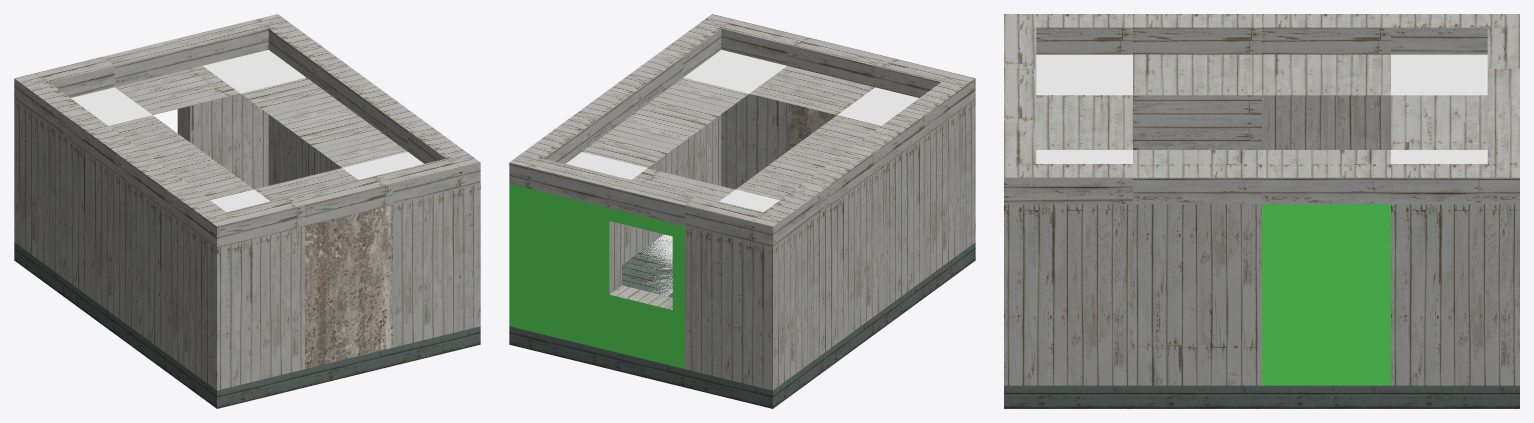
The model's file is building.dae.
3 views of the same model, side by side, from view 1: azimuth 30°, elevation 25°; view 2: azimuth 150°, elevation 25°; view 3: azimuth 270°, elevation 25° (orthographic). The views are drawn at different scales.
Parts seen in each view (by area): view 1: wall23 (×9), wall4 (×14), door24, floor3 (×6); view 2: wall23 (×10), wall4 (×14), floor3 (×8), door24; view 3: wall23 (×6), wall4 (×14), floor3 (×4).
Boxes of the visible parts, x1,y1,x2,y2 form: wall23 (×9): (14, 94, 480, 390); wall4 (×14): (14, 14, 480, 247); door24: (305, 205, 392, 368); floor3 (×6): (14, 242, 480, 408); wall23 (×10): (509, 94, 975, 390); wall4 (×14): (509, 14, 975, 247); floor3 (×8): (509, 235, 975, 408); door24: (787, 103, 836, 151); wall23 (×6): (1004, 95, 1519, 385); wall4 (×14): (1004, 14, 1519, 204); floor3 (×4): (1004, 385, 1519, 408).
Bounding box in the file's own units: 118 × 157 × 77.95.
5 materials, 3 textured.
